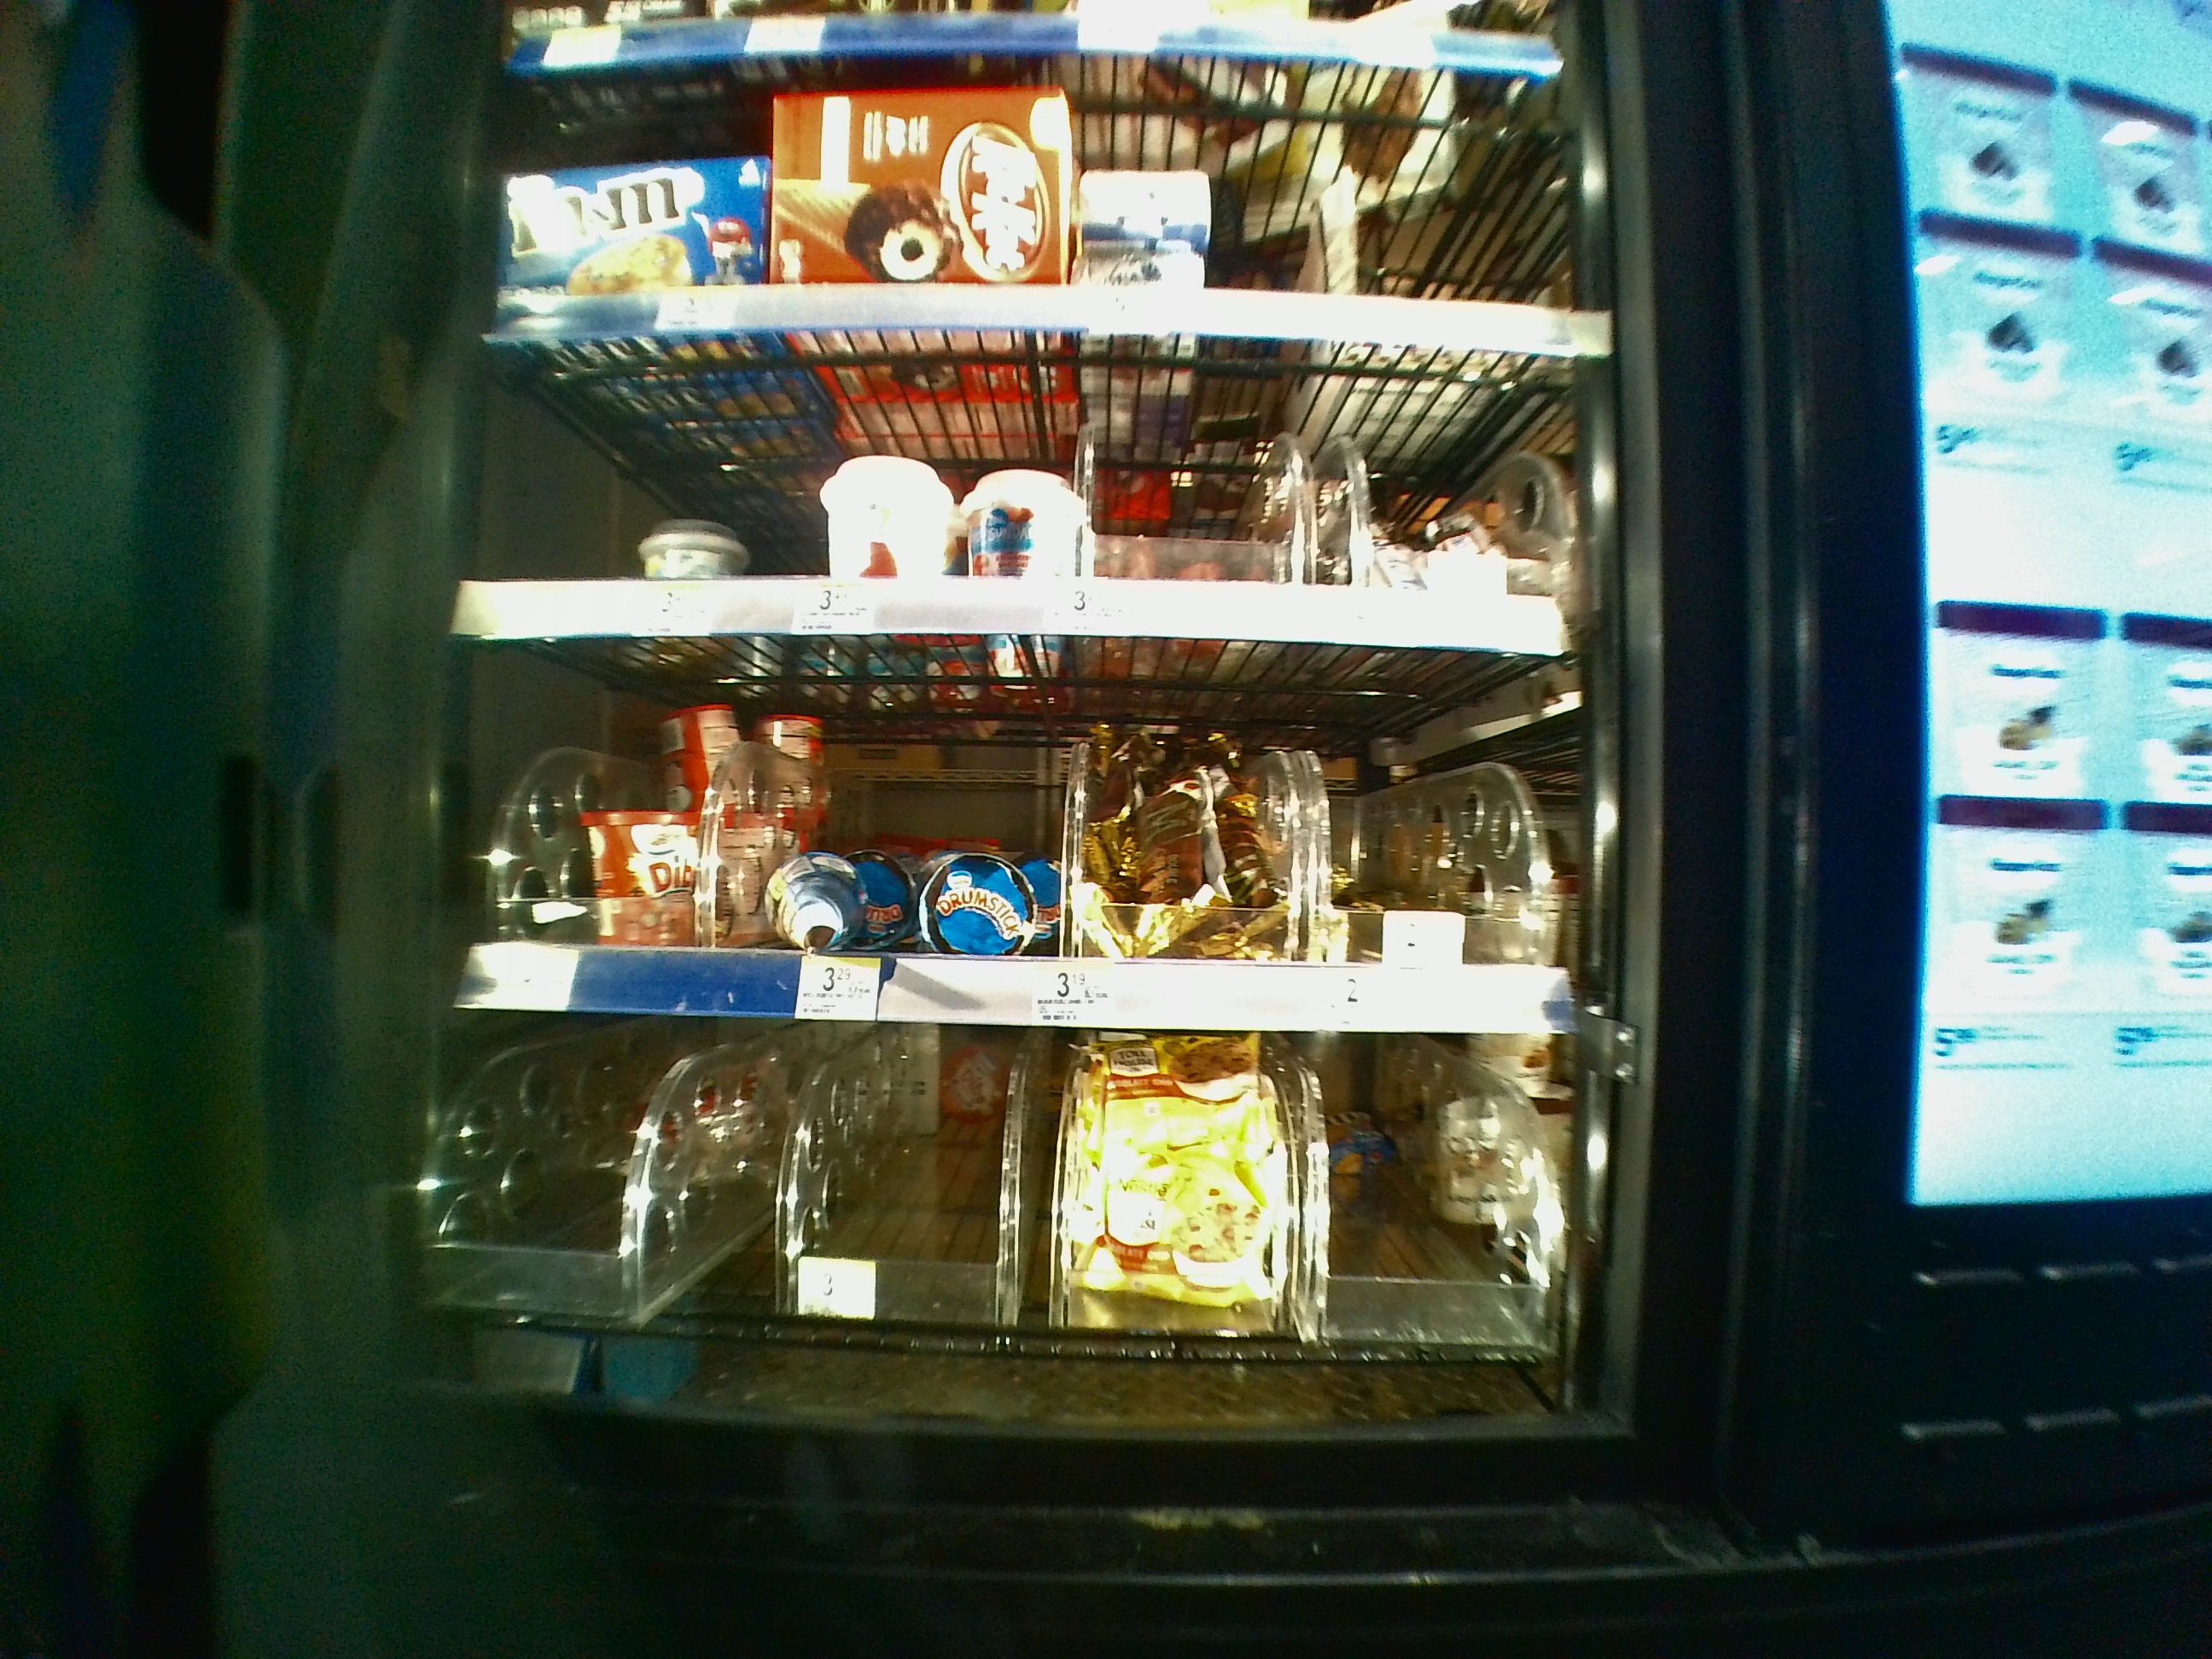shelf: (446, 1033, 1581, 1422), (444, 664, 1590, 1023), (451, 361, 1595, 643), (472, 78, 1604, 345)
